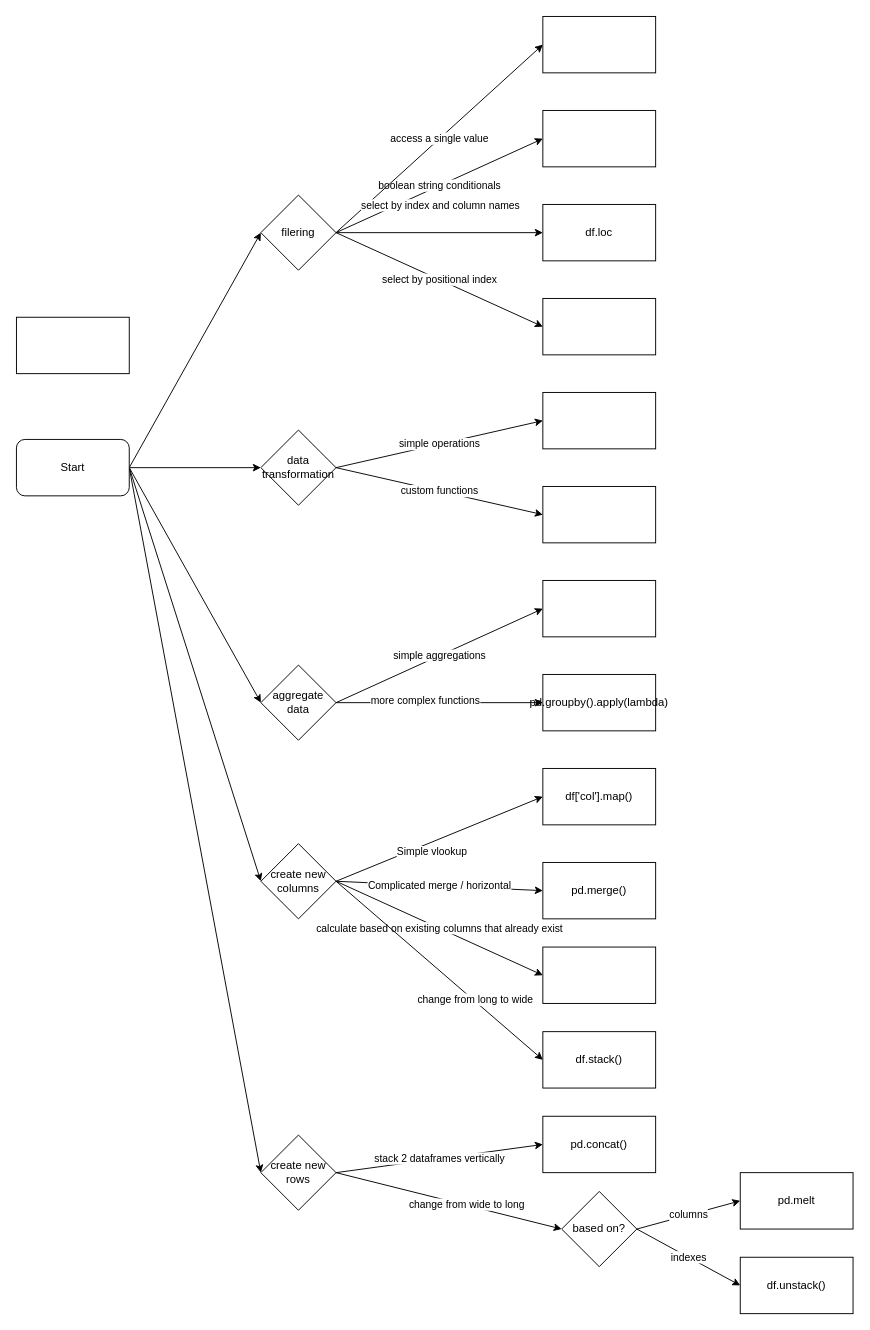
The diagram is 870 pixels wide and 1330 high, and some of its shapes have lost their labels. Each missing label, with the centre of its shape:
"axis = 1 , row axis = 0, column" belongs at (x=72, y=345).
"df.apply()" belongs at (x=599, y=514).
"df.at" belongs at (x=599, y=44).
"df.iloc" belongs at (x=599, y=326).
"df.query()" belongs at (x=599, y=138).
"pd.groupby().agg()" belongs at (x=599, y=608).
"pd.groupby().transform()" belongs at (x=599, y=974).
"vectorization" belongs at (x=599, y=420).
